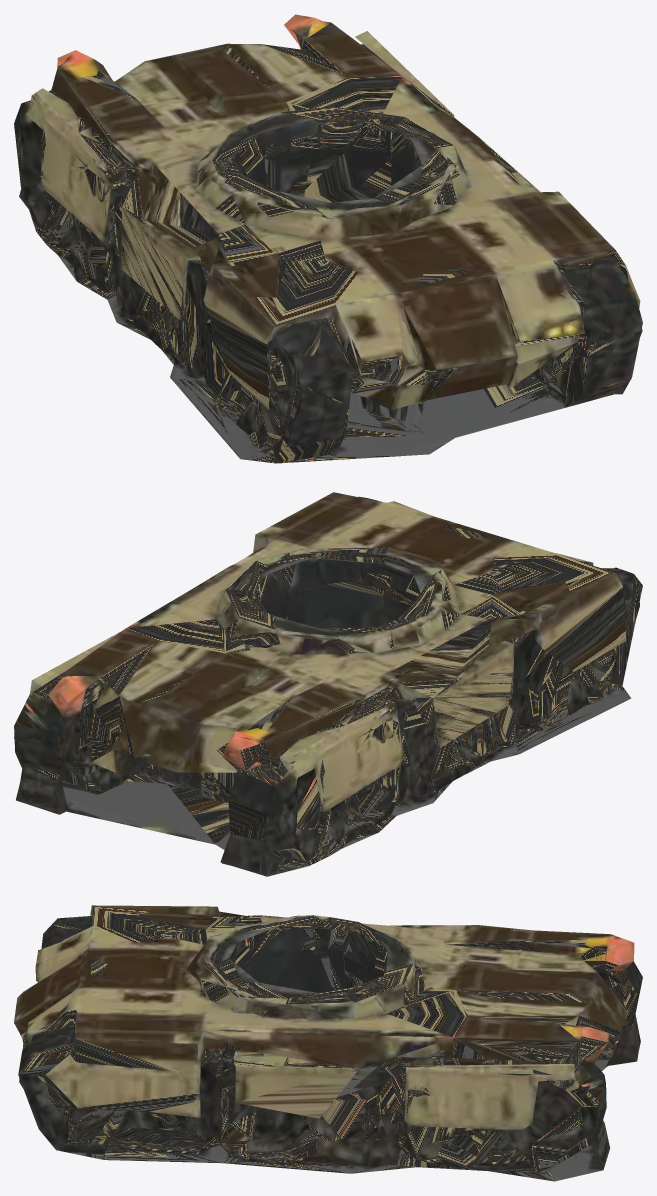
The model's file is boss-crawler.glb.
The picture shows the model from 3 angles, top to bottom: view 1: azimuth 30°, elevation 25°; view 2: azimuth 150°, elevation 25°; view 3: azimuth 270°, elevation 25°; orthographic projection. The views are drawn at different scales.
Size of the model in its own units: 0.6308 by 0.2387 by 0.9647.
Materials: 1 (1 with a texture image).
